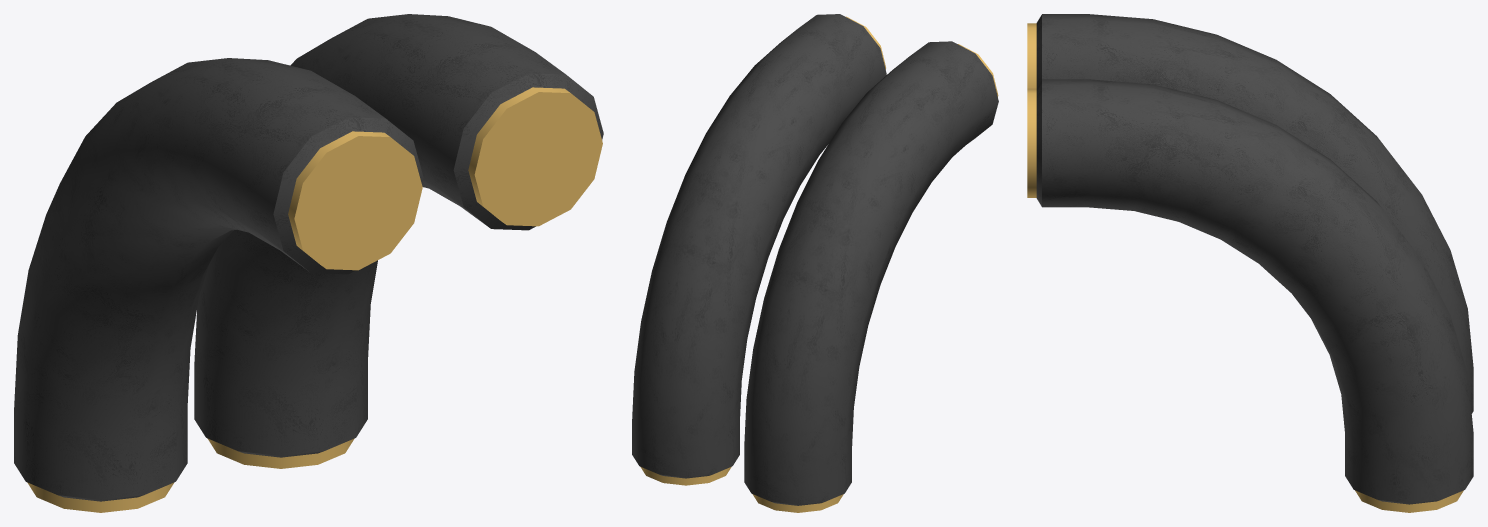
File: 2_pipes_toGround.fbx
3 renders of one model, left to right at view 1: azimuth 30°, elevation 25°; view 2: azimuth 150°, elevation 25°; view 3: azimuth 270°, elevation 25°, orthographic. The views are drawn at different scales.
Visible parts, largest first — view 1: Cylinder.242; view 2: Cylinder.242; view 3: Cylinder.242.
Part boxes in pixels (x1,y1,x2,y2): Cylinder.242: (14, 14, 603, 512); Cylinder.242: (632, 14, 998, 512); Cylinder.242: (1027, 14, 1473, 512).
Size of the model in its own units: 110 by 174 by 174.
